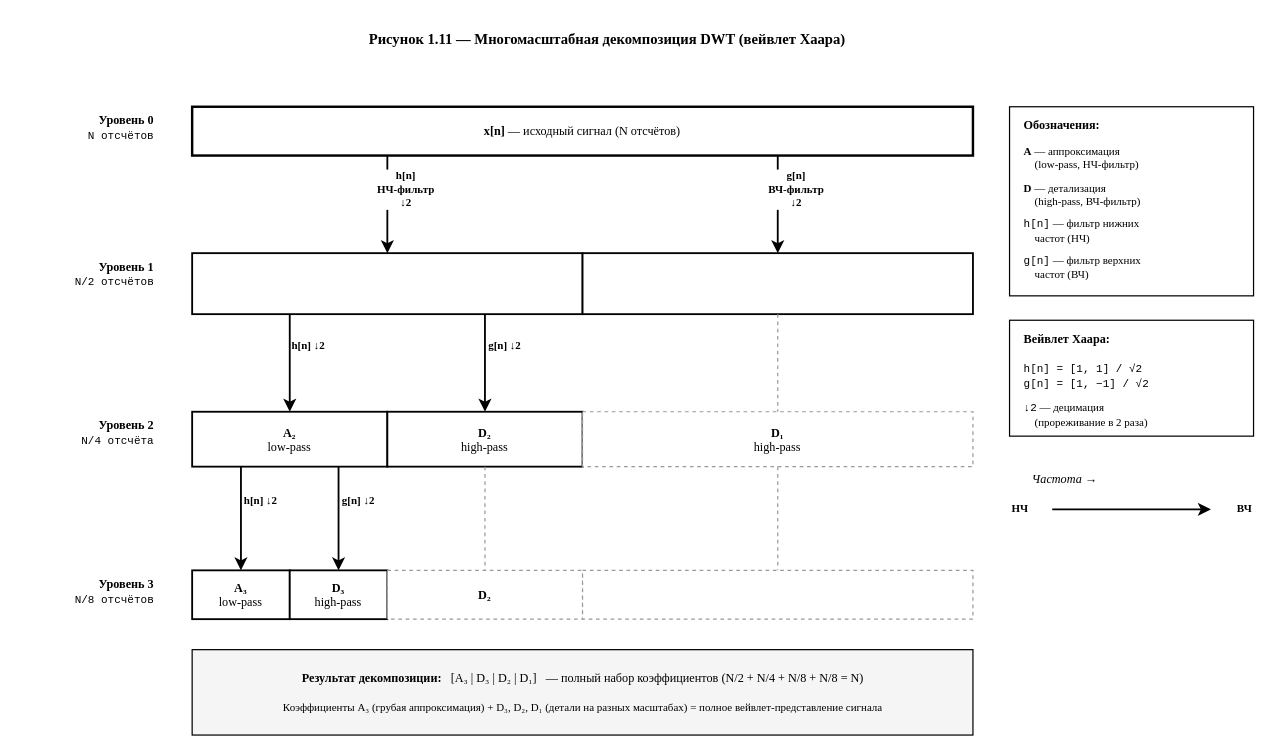
Some shapes in this 1275 by 756 pixel diagram are drawn without their labels. The shapes that lost their labels are listed below. From the top down, each one's centre as x and y in pixels, then its label:
At (387,283): "A₁ аппроксимация low-pass".
At (777,283): "D₁ детализация high-pass".
At (777,594): "D₁".
